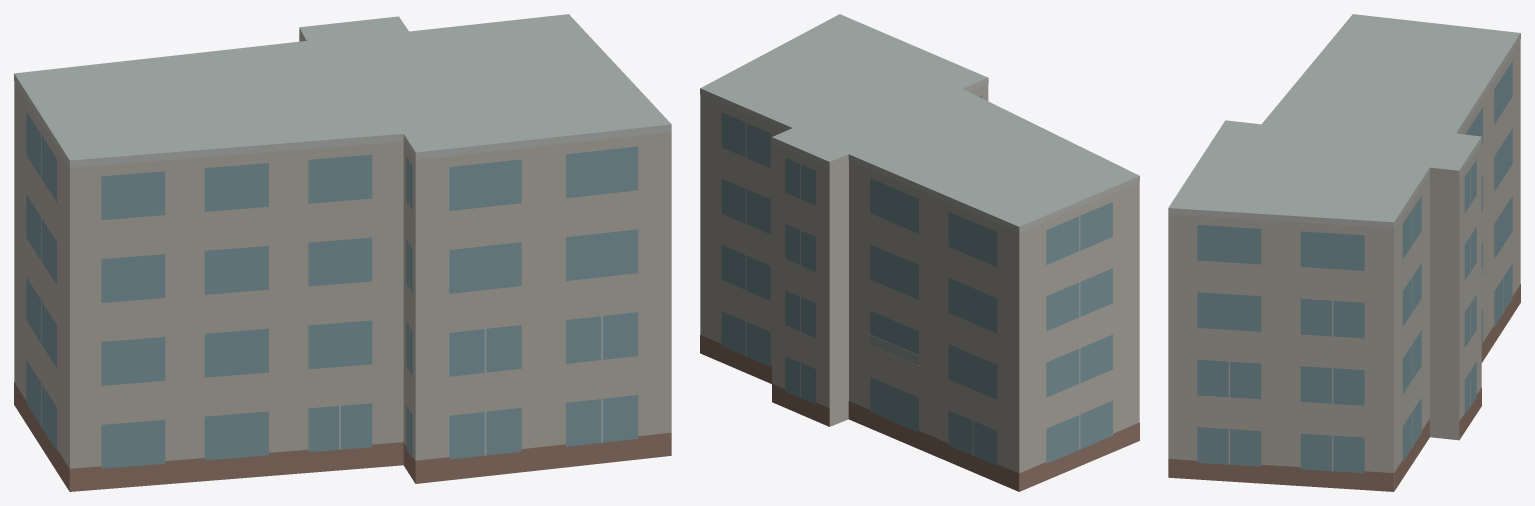
The model's file is survey-upis-32496825.glb.
3 views of the same model, side by side, from view 1: azimuth 30°, elevation 25°; view 2: azimuth 150°, elevation 25°; view 3: azimuth 270°, elevation 25° (orthographic). The views are drawn at different scales.
Visible parts, largest first — view 1: survey-upis-32496825.tmp; view 2: survey-upis-32496825.tmp; view 3: survey-upis-32496825.tmp.
Boxes of the visible parts, x1,y1,x2,y2 form: survey-upis-32496825.tmp: (14, 14, 671, 491); survey-upis-32496825.tmp: (700, 14, 1139, 491); survey-upis-32496825.tmp: (1168, 14, 1520, 491).
Size of the model in its own units: 17.81 by 10.75 by 12.75.
